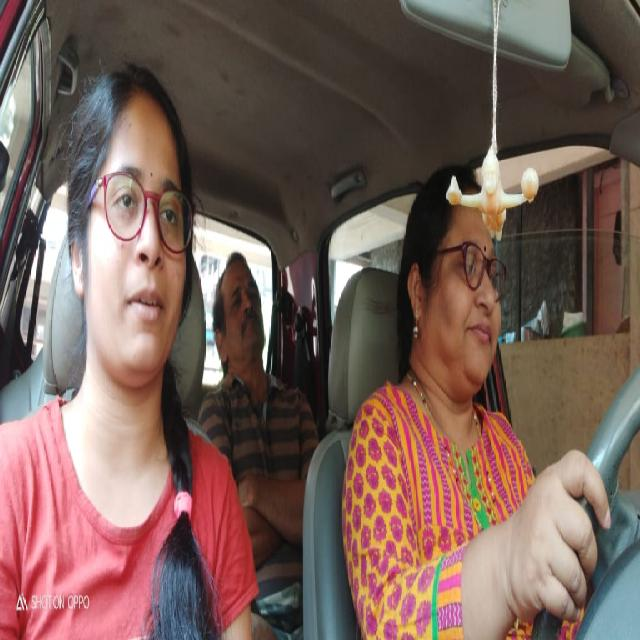person: (69, 84, 191, 383), (409, 180, 502, 386), (216, 262, 270, 380)
